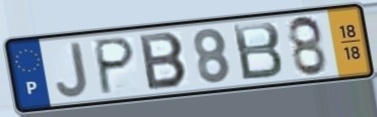8: (286, 14, 329, 80), (191, 26, 234, 86)
B: (230, 20, 286, 84), (136, 31, 190, 93)
J: (54, 40, 91, 100)
P: (93, 35, 138, 98)
